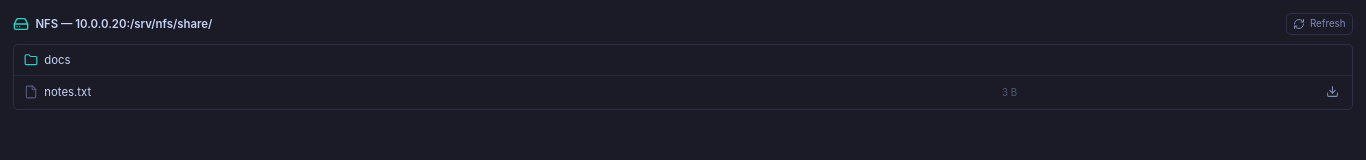
Test: NfsExplorer › navigates into a directory on click and shows an Up button
Expected: the text "docs" is shown, x1=44 y1=52 x2=71 y2=68
Click the button "docs" at point(47, 60), box x1=24 y1=52 x2=71 y2=68
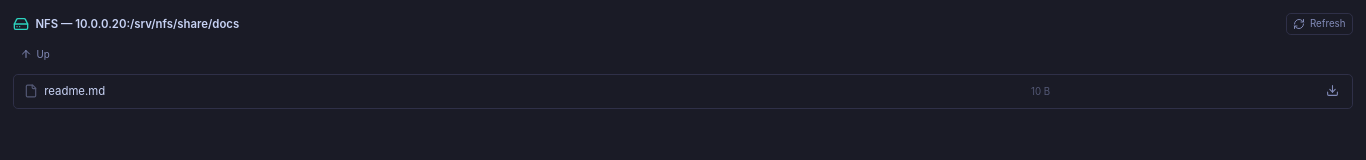
Now the text "readme.md" is shown, box x1=44 y1=83 x2=105 y2=99
Now the button "Up" is shown, box x1=13 y1=44 x2=56 y2=64
